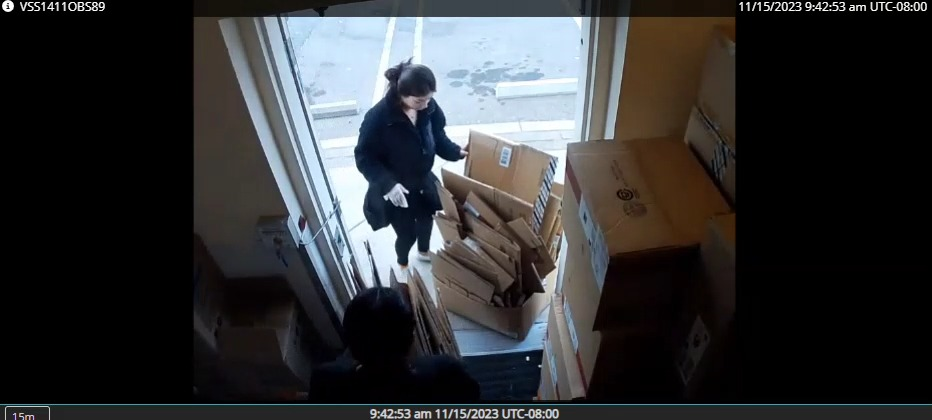gloves: (383, 182, 416, 212)
